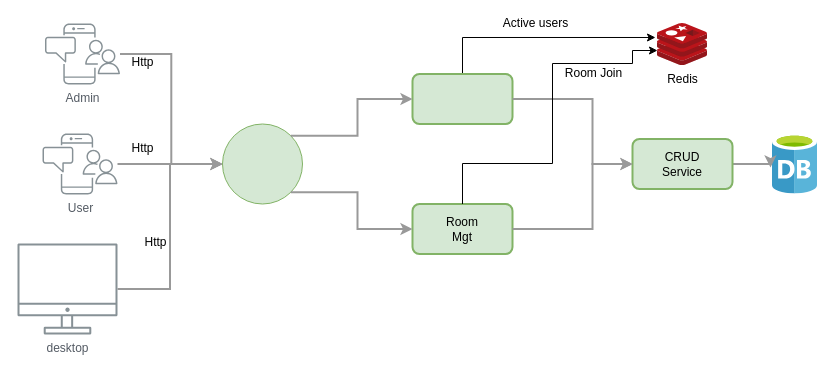
Image size: 834x373. Some labels were removed from this diagram. The centre of each missing label's shape, as x and y in pixels:
API Gateway: (x=262, y=163)
Mysql: (x=794, y=164)
User Mgt: (x=462, y=98)
